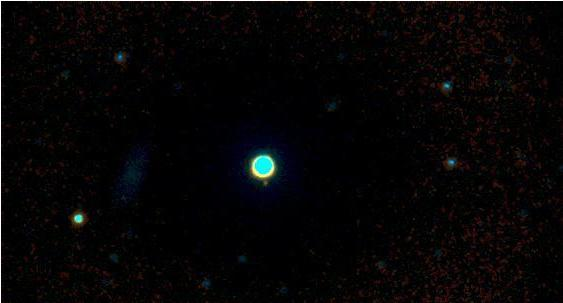star: (251, 168, 281, 198)
